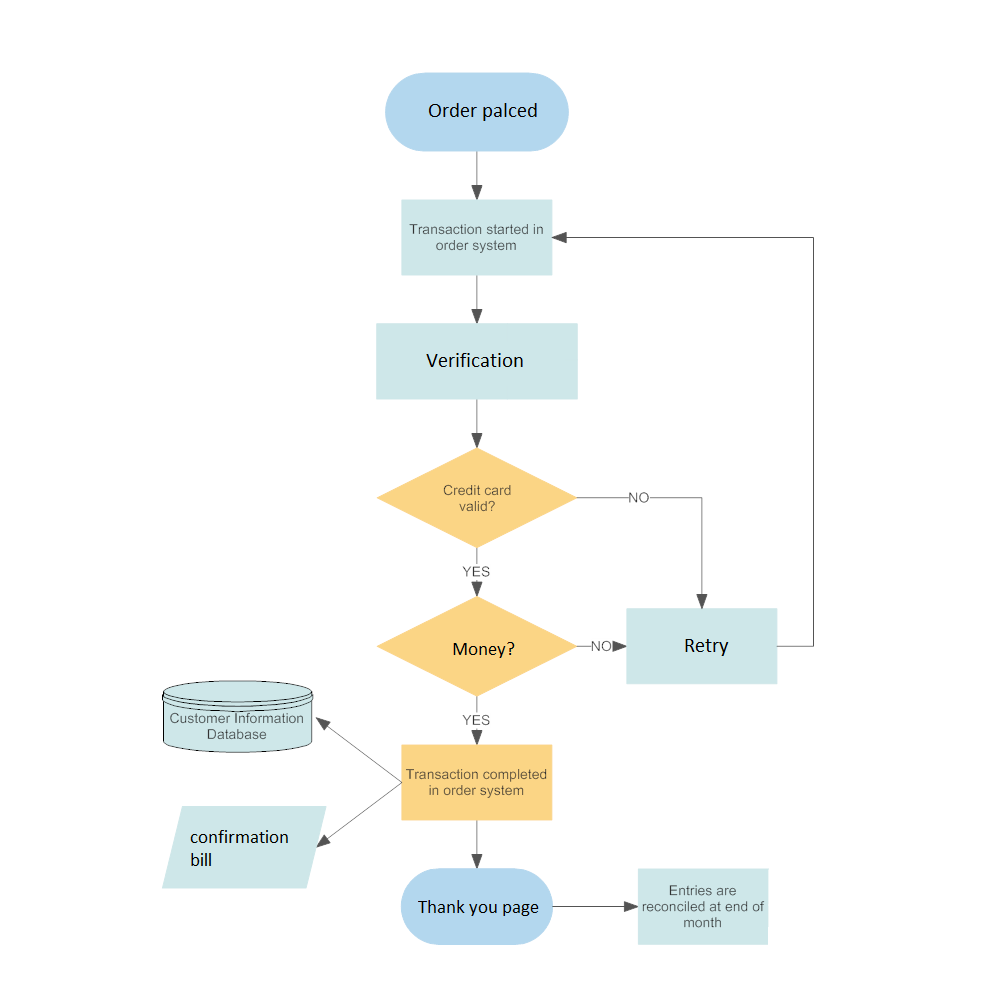arrow: (553, 230, 820, 651), (579, 488, 708, 605), (314, 712, 402, 864), (314, 782, 401, 852), (314, 715, 402, 783), (460, 694, 490, 745), (461, 544, 490, 594), (552, 899, 643, 914), (569, 705, 630, 725), (575, 638, 628, 655), (469, 273, 487, 323), (466, 402, 484, 449), (469, 145, 485, 195), (469, 818, 485, 868), (467, 579, 487, 597)
data: (154, 802, 330, 891)
decision: (372, 449, 583, 547), (373, 597, 576, 697)
process: (369, 321, 584, 406), (151, 676, 325, 762), (393, 741, 557, 827), (623, 606, 782, 689), (395, 198, 549, 273), (637, 865, 770, 944)
terminator: (384, 70, 575, 153), (395, 864, 555, 950)
text: (640, 879, 770, 931), (405, 221, 548, 255), (181, 824, 293, 867), (404, 764, 548, 797), (170, 708, 302, 741), (420, 349, 532, 376), (416, 897, 543, 920), (423, 99, 542, 123), (439, 483, 520, 515), (451, 636, 519, 662), (678, 635, 734, 656), (457, 556, 493, 580), (622, 488, 652, 505), (587, 637, 622, 651), (461, 714, 495, 727)
